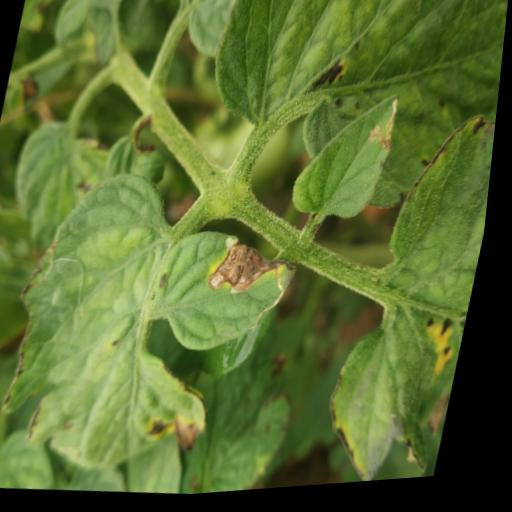Early Blight: (0, 162, 269, 495), (142, 219, 319, 369)
